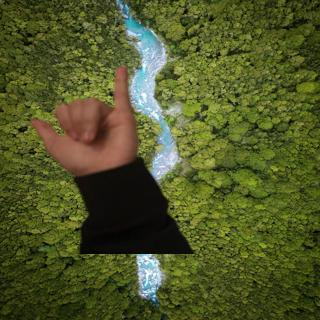HAVE: (31, 63, 149, 178)
